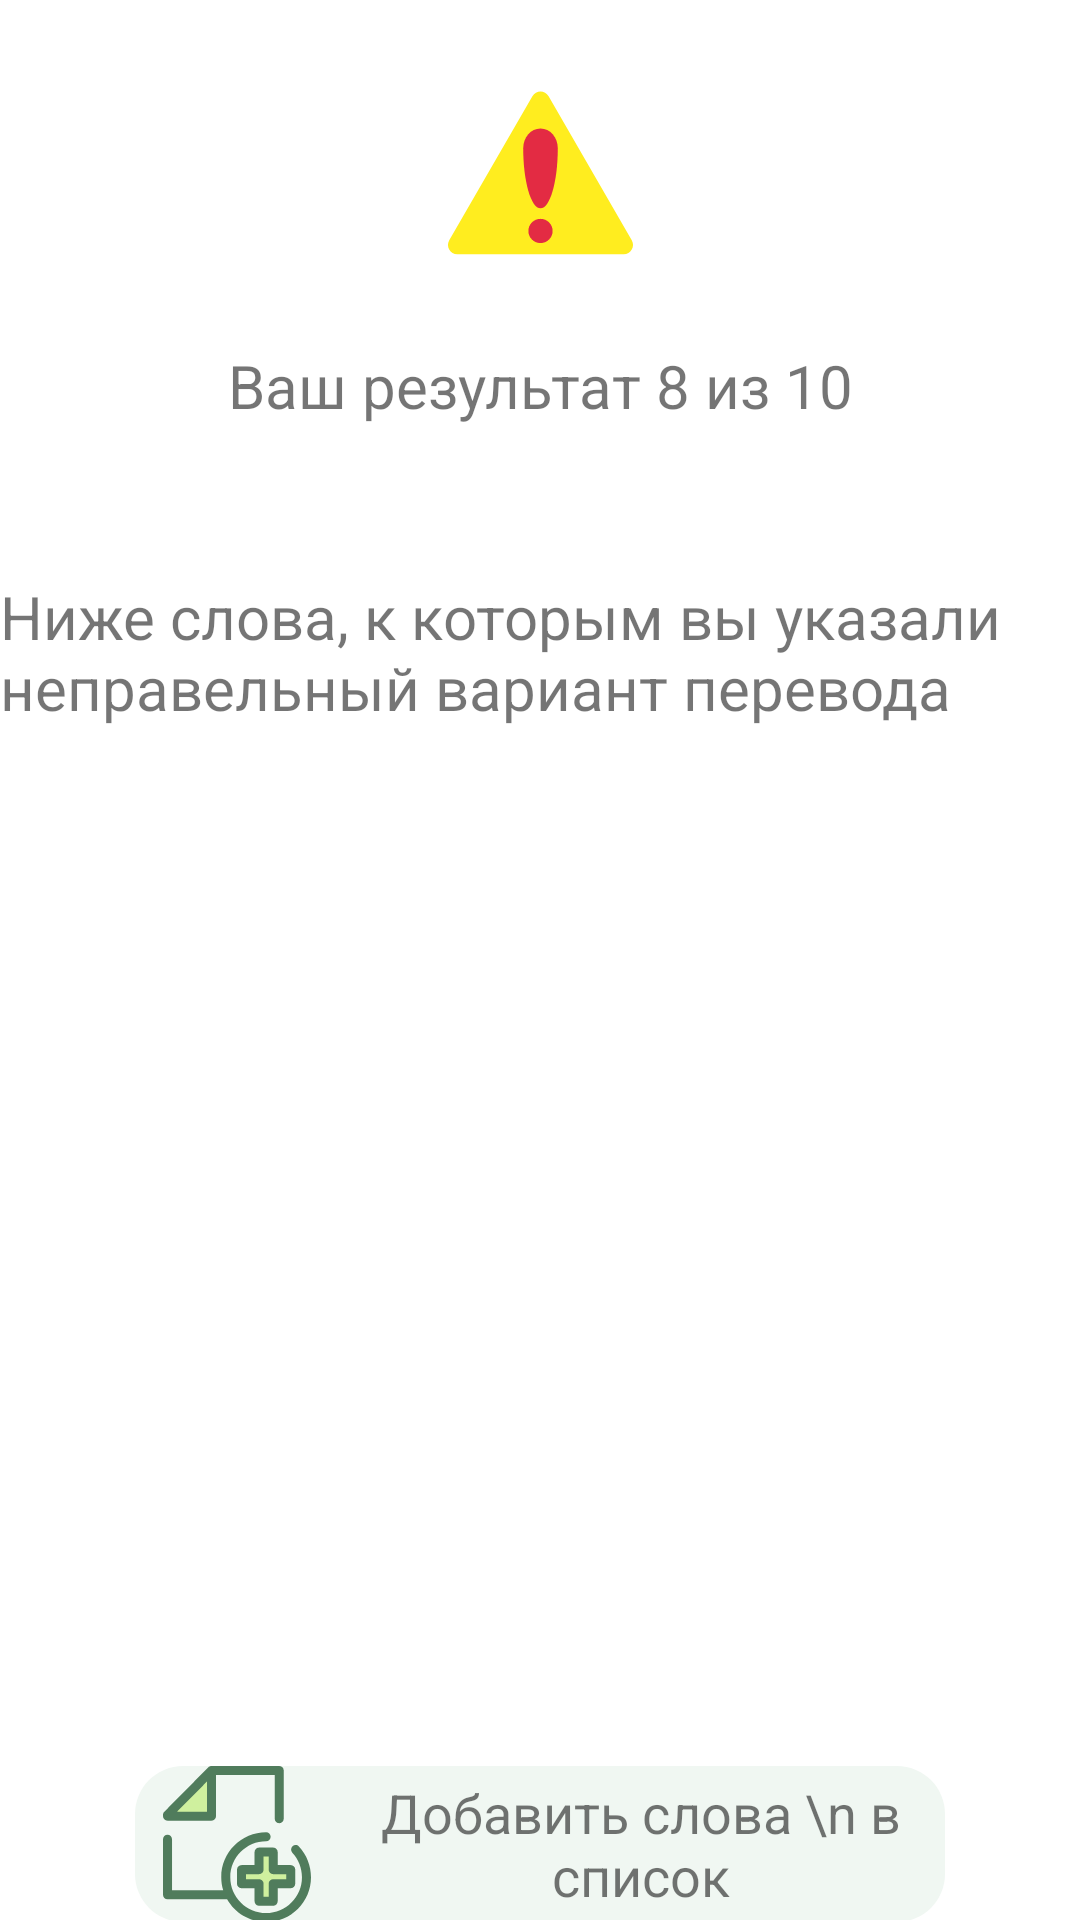

Point at icon controls on the screen. Image size 1080 × 1920, points as [x,y].
attention triangle: [540,173]
file add to list: [236,1843]
